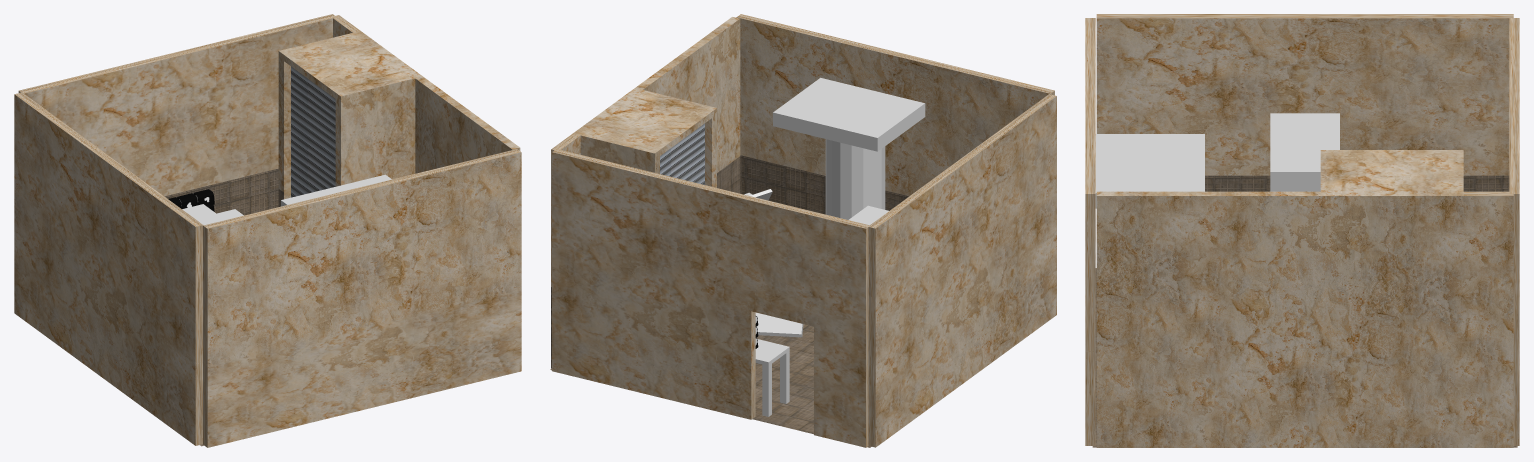
Rendered from segundaHabitación.fbx.
The picture shows the model from 3 angles, left to right: view 1: azimuth 30°, elevation 25°; view 2: azimuth 150°, elevation 25°; view 3: azimuth 270°, elevation 25°; orthographic projection. The views are drawn at different scales.
Parts seen in each view (by area): view 1: Cube.008, Cube.010, pared_Entrada, Cube.009, Cube.013, Plane.007; view 2: pared_Entrada, Cube.010, Cube.008, Cube.009, Plane.007, Cylinder.004, Plane.005, Cube.013, Cube.020, Cube.015; view 3: Cube.009, Cube.010, Plane.007, Cube.016, Cube.008, pared_Entrada.
Boxes of the visible parts, box(x1,y1,x2,y2) form: Cube.008: box(203, 149, 521, 447); Cube.010: box(14, 92, 203, 445); pared_Entrada: box(18, 14, 336, 215); Cube.009: box(278, 15, 520, 206); Cube.013: box(291, 66, 335, 197); Plane.007: box(281, 174, 391, 206); pared_Entrada: box(552, 149, 870, 447); Cube.010: box(868, 94, 1056, 447); Cube.008: box(736, 14, 1054, 214); Cube.009: box(551, 17, 740, 368); Plane.007: box(773, 77, 925, 151); Cylinder.004: box(825, 139, 885, 219); Plane.005: box(550, 324, 871, 447); Cube.013: box(660, 123, 704, 184); Cube.020: box(755, 339, 789, 416); Cube.015: box(755, 312, 803, 337); Cube.009: box(1096, 150, 1513, 447); Cube.010: box(1096, 14, 1513, 191); Plane.007: box(1095, 134, 1204, 208); Cube.016: box(1270, 113, 1339, 191); Cube.008: box(1085, 18, 1095, 445); pared_Entrada: box(1509, 18, 1519, 445).
Bounding box in the file's own units: 620 × 400 × 625.
